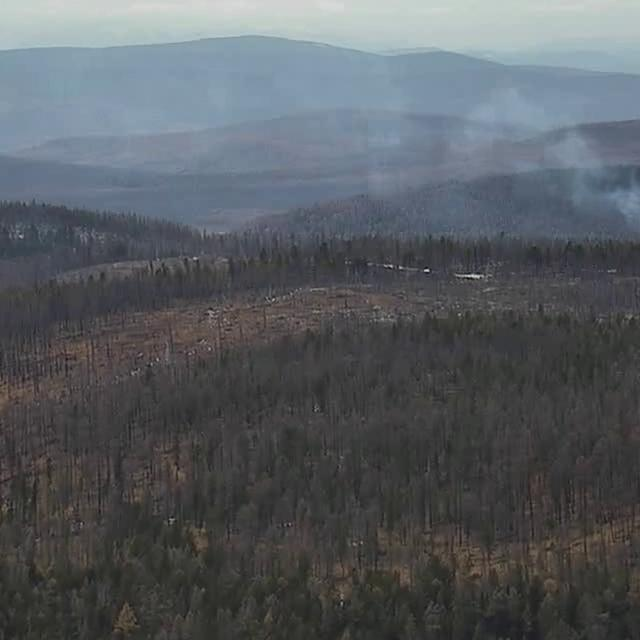Smoke: (413, 93, 639, 276)
